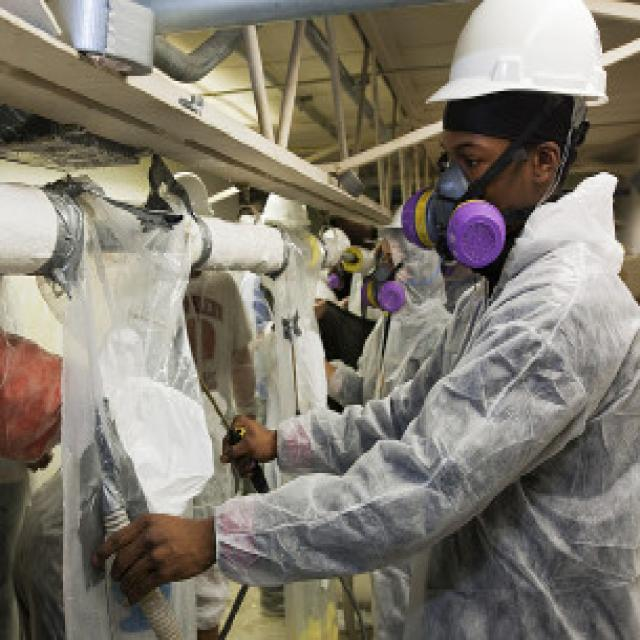mask: (436, 116, 524, 258)
